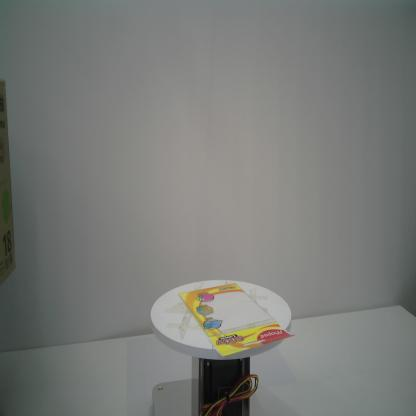Stationery: (176, 281, 295, 358)
